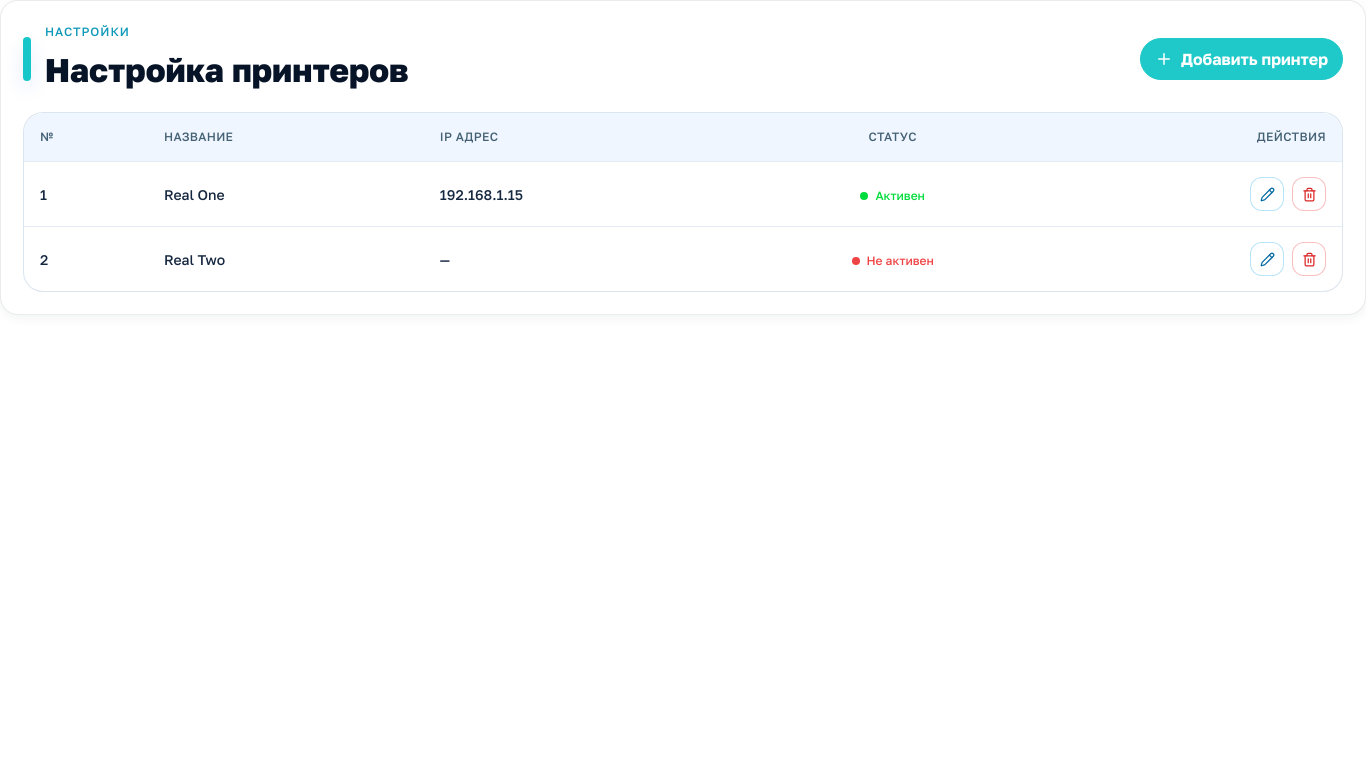
Test: SettingsPrintersPage (simplified V2) › contains no cook/chef field anywhere
Expected: the text "Real One" is shown, [148,161,424,226]
Click the button "Добавить принтер".
click(1241, 59)  # box [1140,38,1343,80]
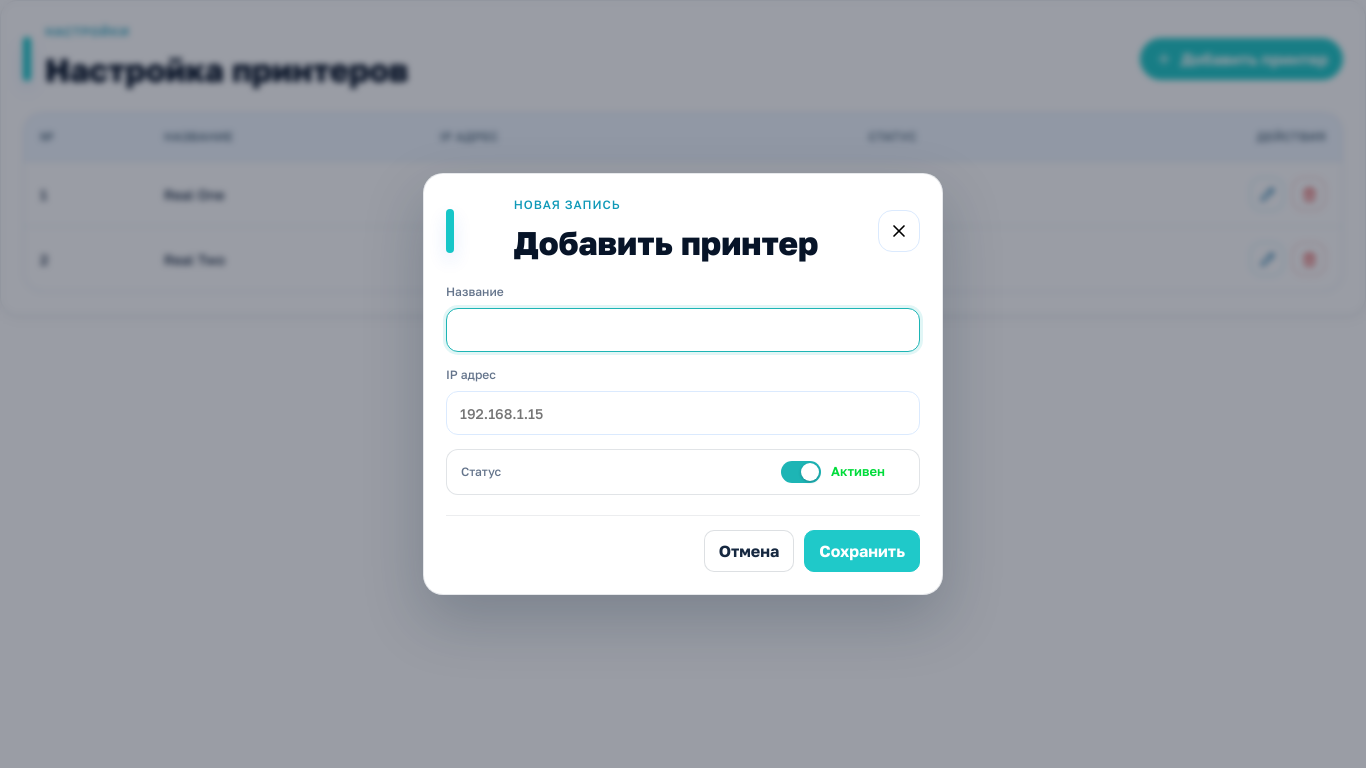
Result: the dialog is shown at [423,173,943,595]
